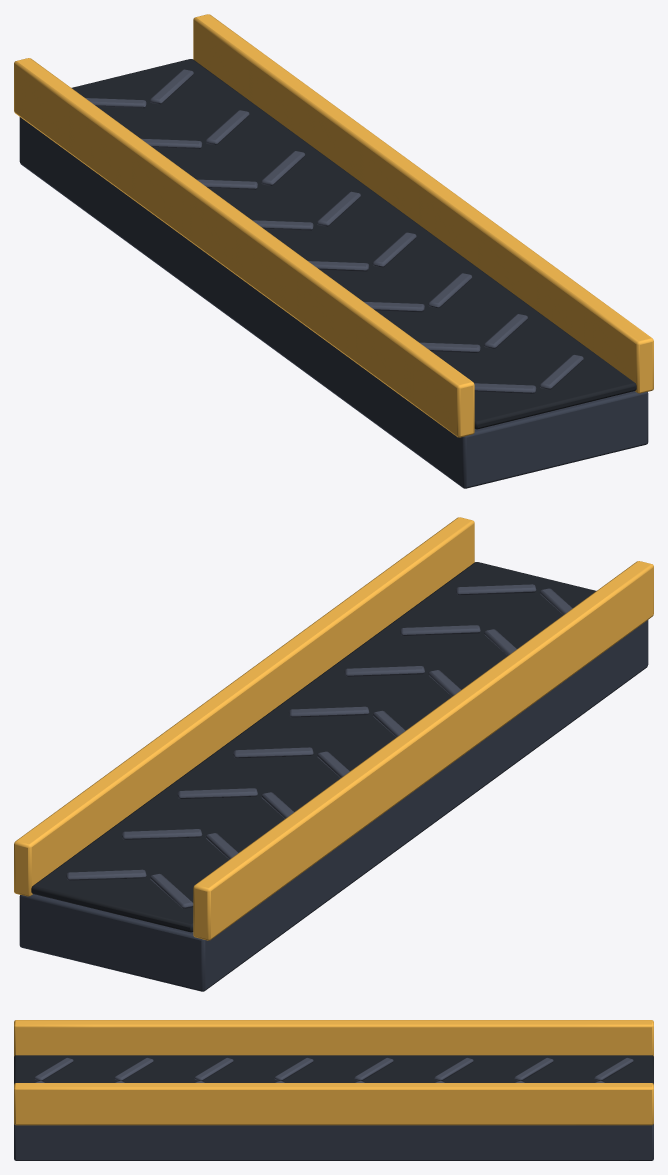
File: band_gerade_4m.fbx
3 renders of one model, top to bottom at view 1: azimuth 30°, elevation 25°; view 2: azimuth 150°, elevation 25°; view 3: azimuth 270°, elevation 25°, orthographic. The views are drawn at different scales.
Visible parts, largest first — view 1: band_gerade_4m_Koerper; view 2: band_gerade_4m_Koerper; view 3: band_gerade_4m_Koerper.
Boxes of the visible parts, box(x1,y1,x2,y2) form: band_gerade_4m_Koerper: box(14, 14, 653, 488); band_gerade_4m_Koerper: box(14, 517, 653, 991); band_gerade_4m_Koerper: box(14, 1020, 653, 1160).
Size of the model in its own units: 1.02 by 0.52 by 4.
